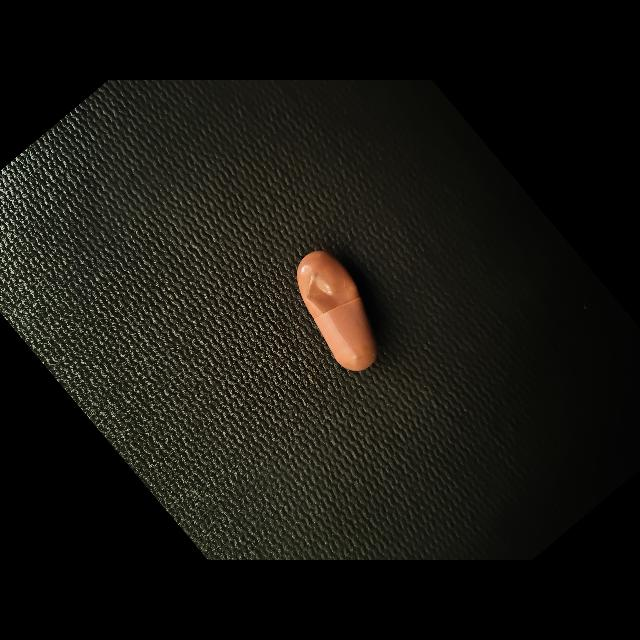Defective Capsule: (307, 269, 357, 314)
